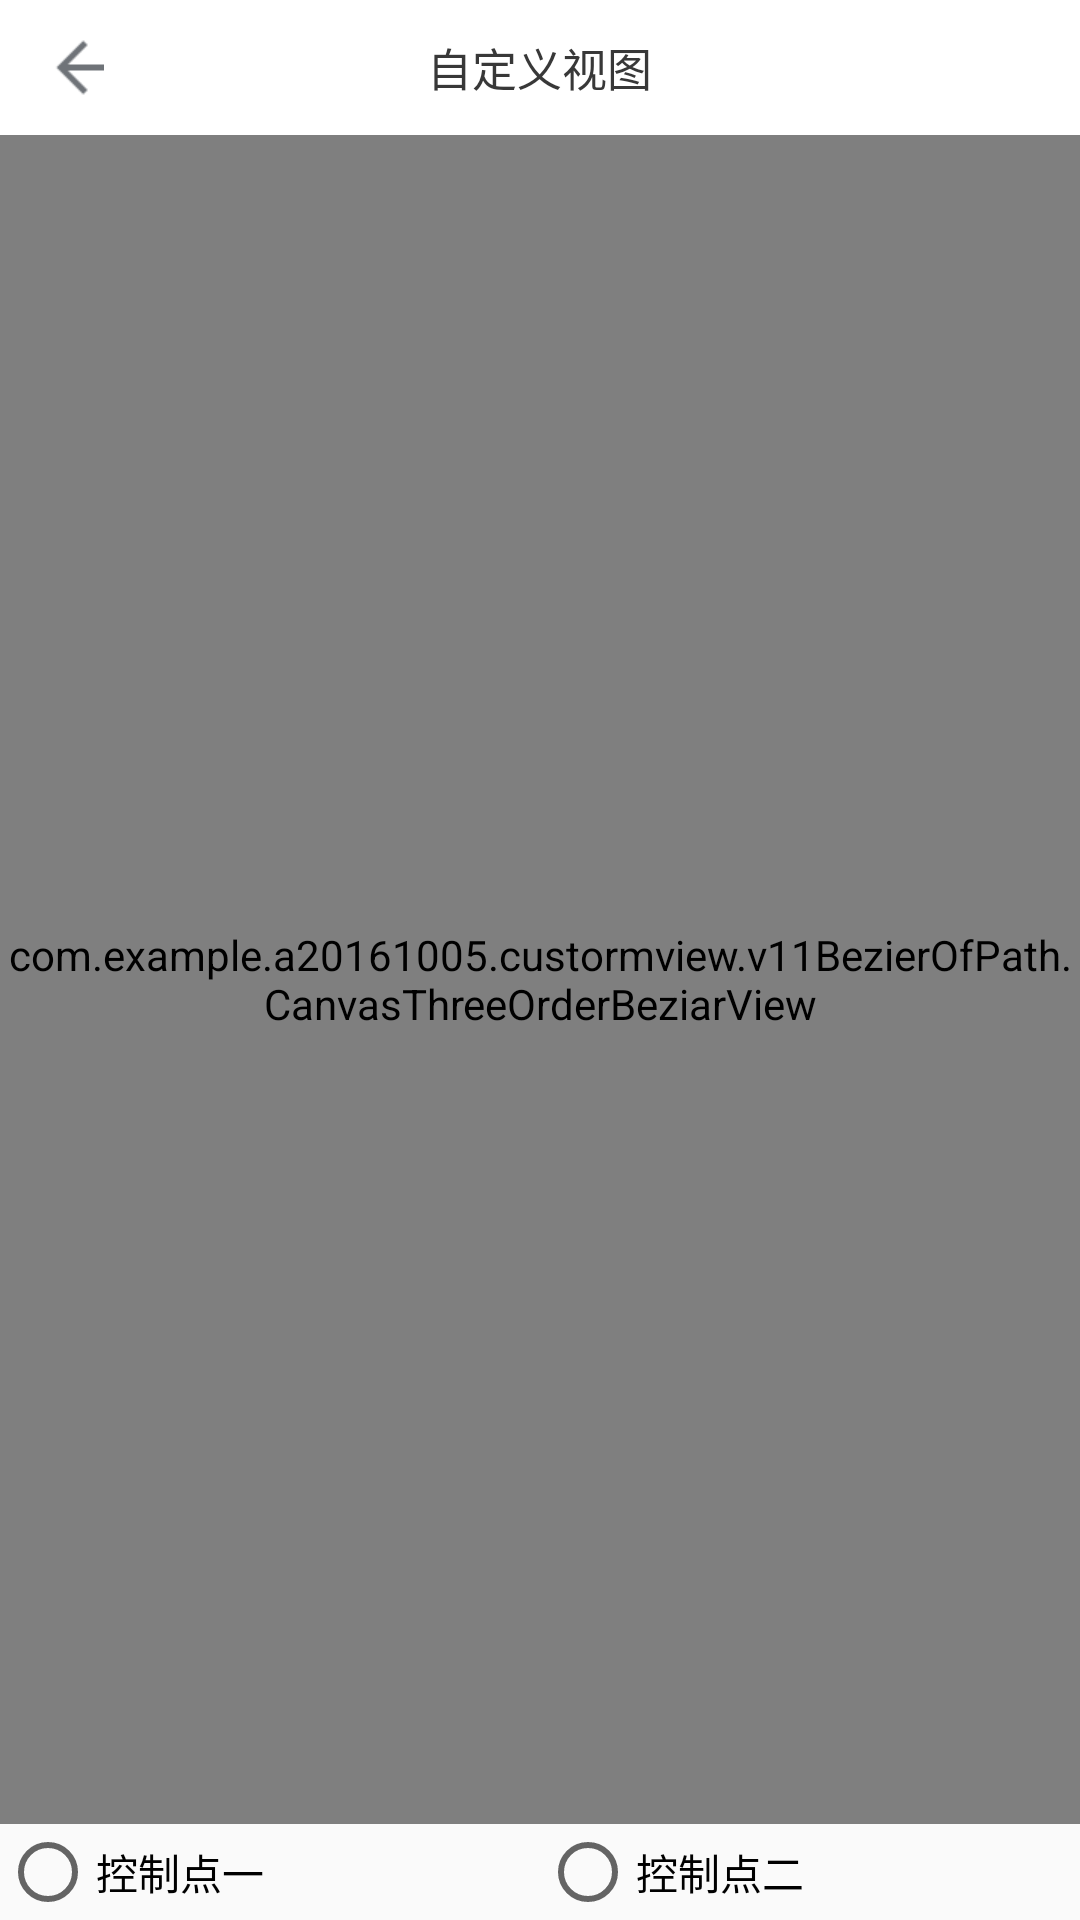

Icons on this 1080*1920 Android screen, each with its box as [left=x1, top=y1, right=x2, bottom=y2]:
title back: [left=56, top=40, right=104, bottom=95]
